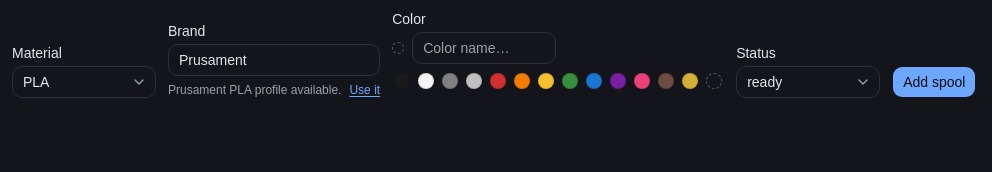
Test: SpoolForm manufacturer override suggestion › switches to the suggested profile when "Use it" is clicked, then hides the hint
expect the text "Prusament PLA profile available." is shown: met, box left=168, top=82, right=342, bottom=98
Click the button "Use it" at (365, 90), box left=350, top=82, right=380, bottom=98
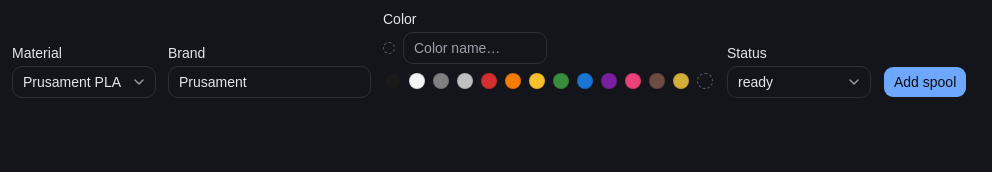
expect the text "profile available" is gone: met
expect the dropdown labelled "Prusament PLA" is shown: met, box left=12, top=66, right=156, bottom=98
